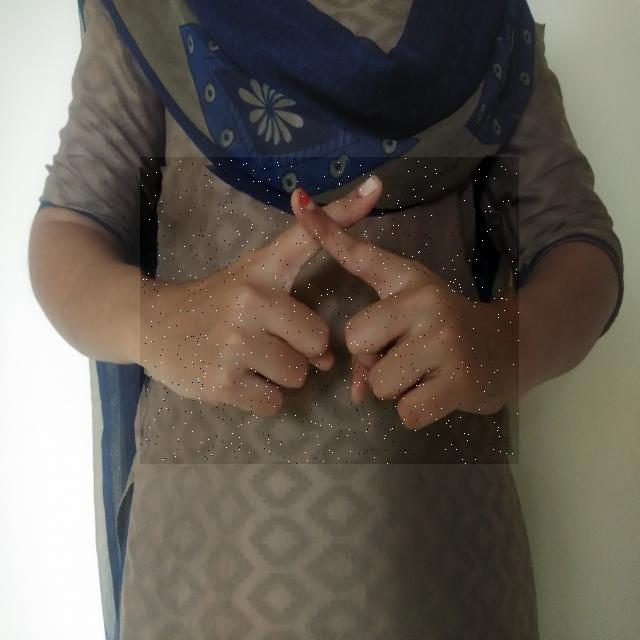X: (140, 157, 519, 464)
